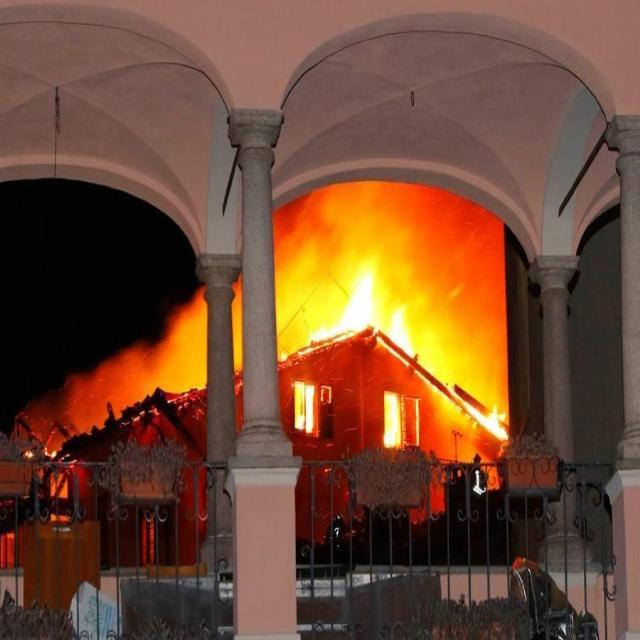Fire: (284, 264, 526, 463)
